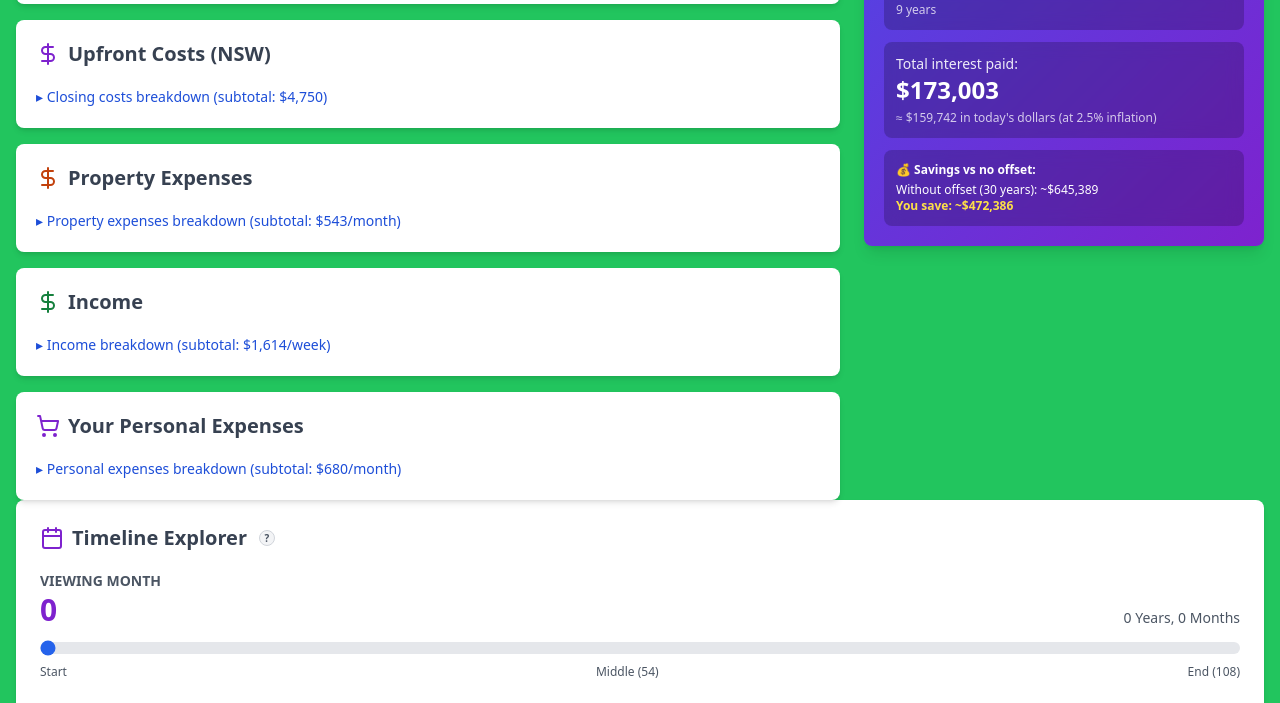
Test: input-panel toggle: Income breakdown › flips the ▸/▾ glyph and reveals/hides its content
This screenshot has width=1280, height=703.
(page scrolled)
Click the button "▸ Income breakdown (subtotal: $1,614/week)". click: [183, 345]
box: [36,335,330,355]
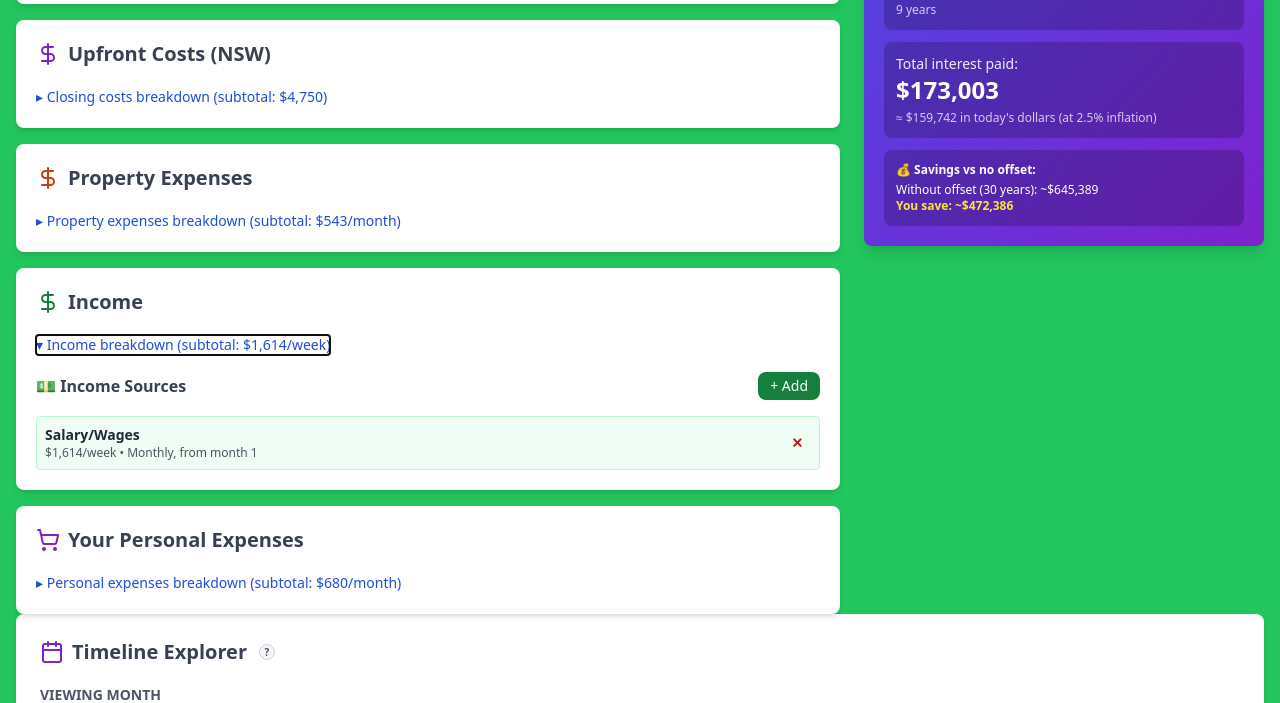
expect the button "▾ Income breakdown (subtotal: $1,614/week)" is shown: met
expect the heading "💵 Income Sources" is shown: met, box [36,374,186,398]
Click the button "▾ Income breakdown (subtotal: $1,614/week)". click: [183, 345]
box: [36,335,330,355]
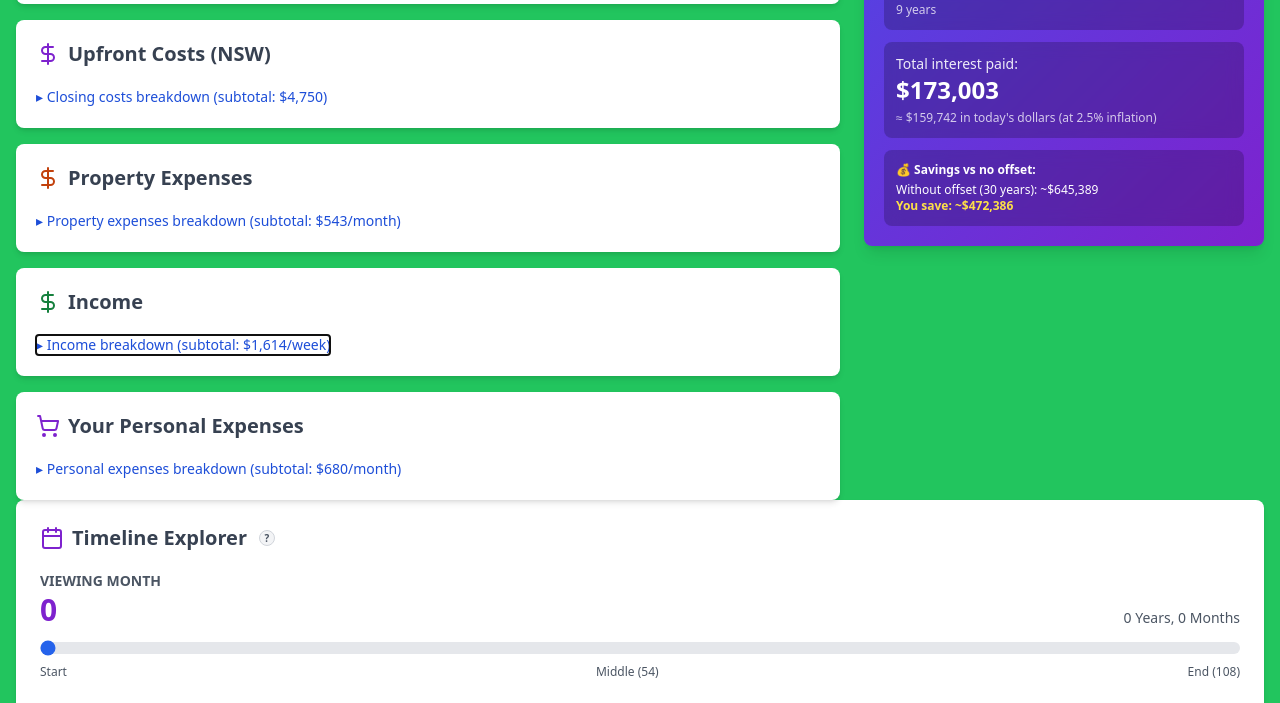
expect the button "▸ Income breakdown (subtotal: $1,614/week)" is shown: met, box [36,335,330,355]
